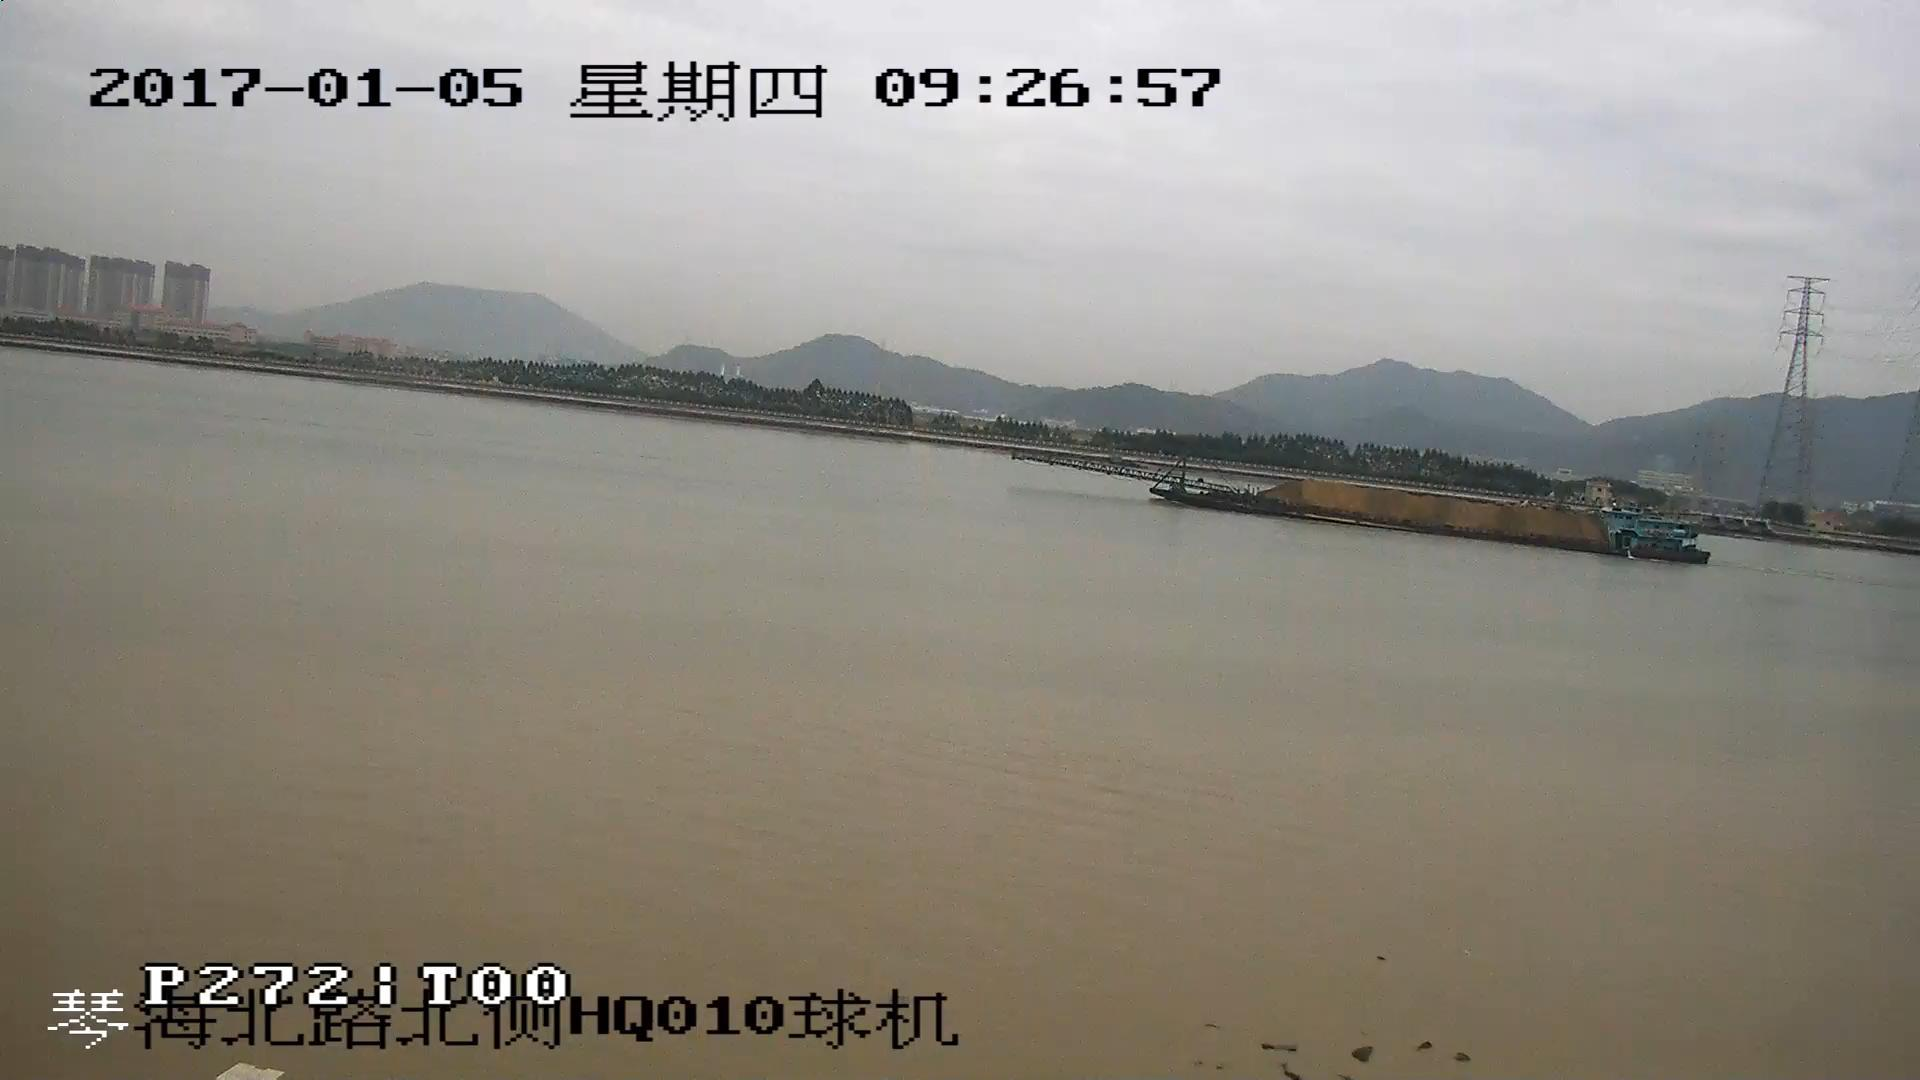Ship: (1025, 454, 1710, 566)
